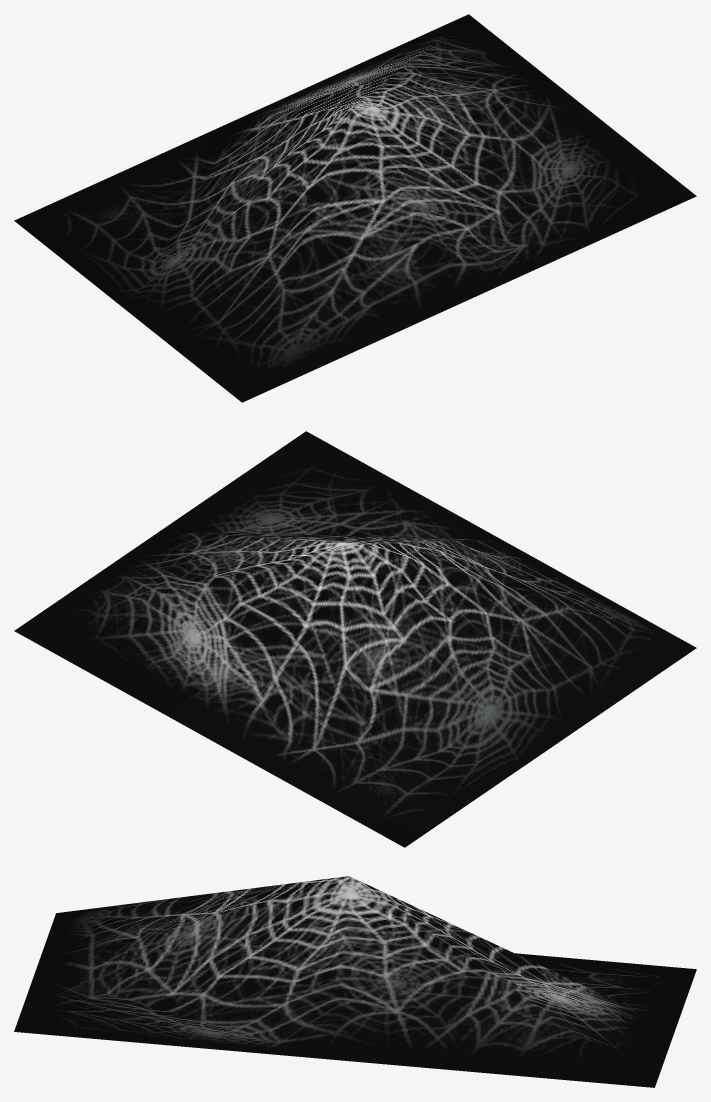
The model's file is MIRKWOOD_PLANE29.fbx.
3 views of the same model, one above another, from view 1: azimuth 30°, elevation 25°; view 2: azimuth 150°, elevation 25°; view 3: azimuth 270°, elevation 25° (orthographic). The views are drawn at different scales.
Parts seen in each view (by area): view 1: MIRKWOOD_PLANE29; view 2: MIRKWOOD_PLANE29; view 3: MIRKWOOD_PLANE29.
Boxes of the visible parts, left/top/right/bottom form: MIRKWOOD_PLANE29: left=14, top=14, right=696, bottom=402; MIRKWOOD_PLANE29: left=14, top=431, right=696, bottom=847; MIRKWOOD_PLANE29: left=14, top=876, right=696, bottom=1087.
Size of the model in its own units: 160149 by 54729 by 166917.
1 material, 1 textured.
